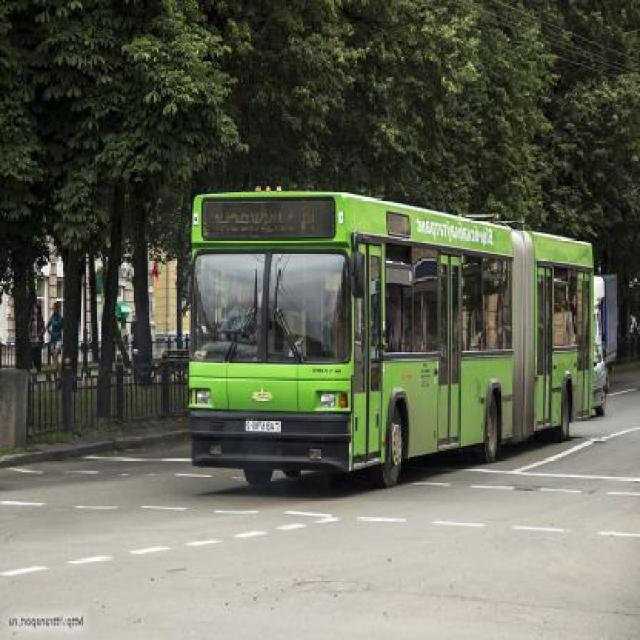bus: (188, 186, 596, 486)
